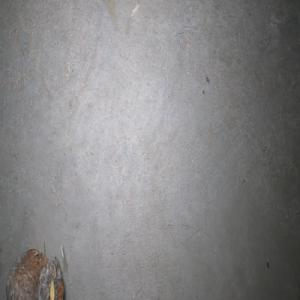Rock: (5, 241, 65, 300)
